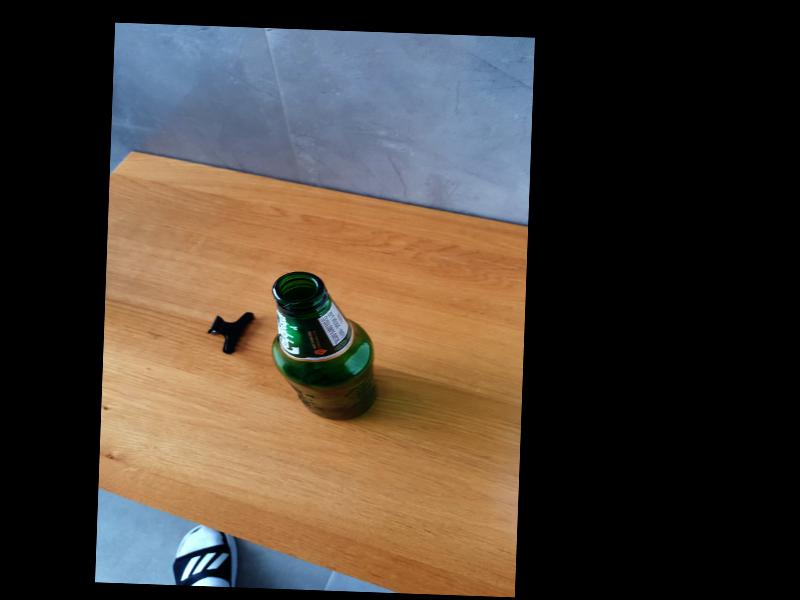Beer: (267, 270, 381, 423)
